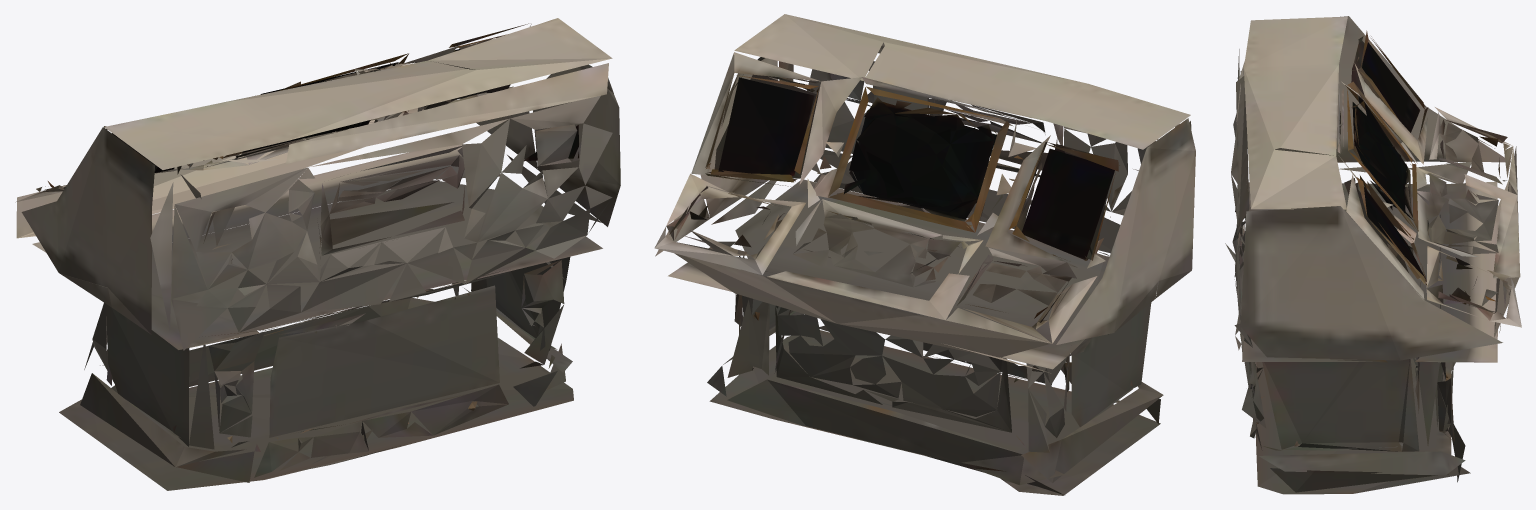
File: console-controle-bas.glb
3 views of the same model, side by side, from view 1: azimuth 30°, elevation 25°; view 2: azimuth 150°, elevation 25°; view 3: azimuth 270°, elevation 25° (orthographic). The views are drawn at different scales.
Parts seen in each view (by area): view 1: console-controle-bas; view 2: console-controle-bas; view 3: console-controle-bas.
Boxes of the visible parts, <box> form: console-controle-bas: <box>15,18,620,490</box>; console-controle-bas: <box>654,14,1195,495</box>; console-controle-bas: <box>1225,16,1521,494</box>.
Bounding box in the file's own units: 1.6 × 1.14 × 1.01.
Materials: 1 (1 with a texture image).
